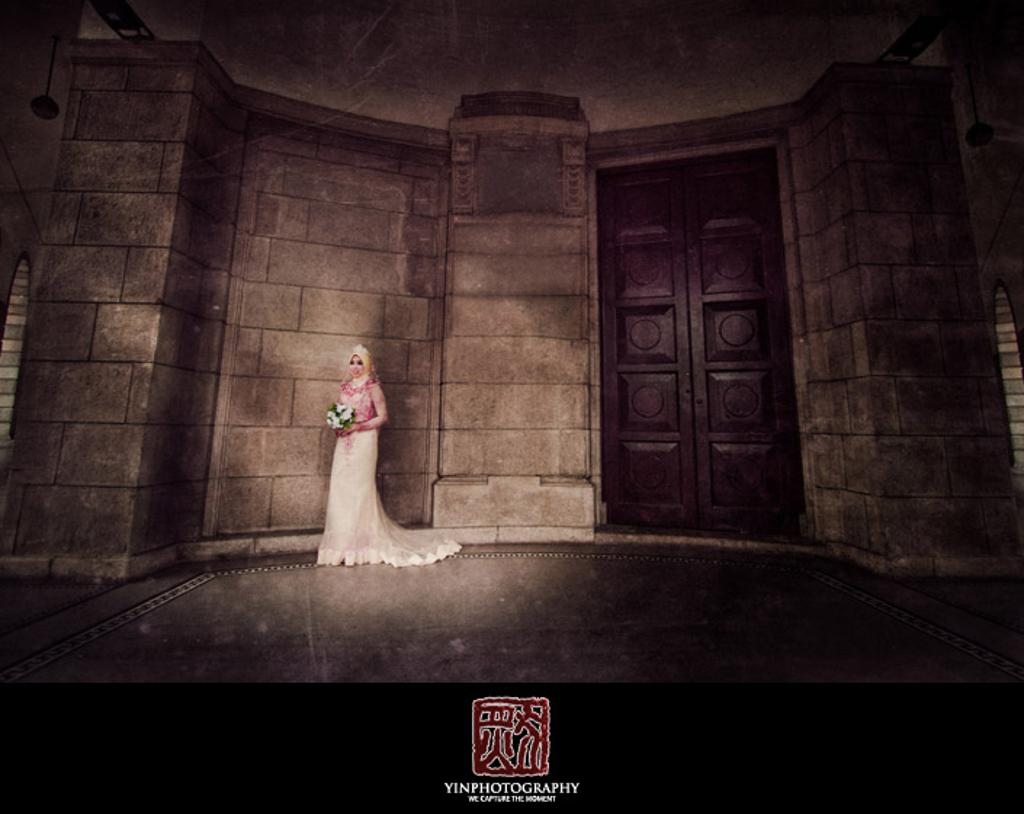face: (350, 353, 363, 376)
